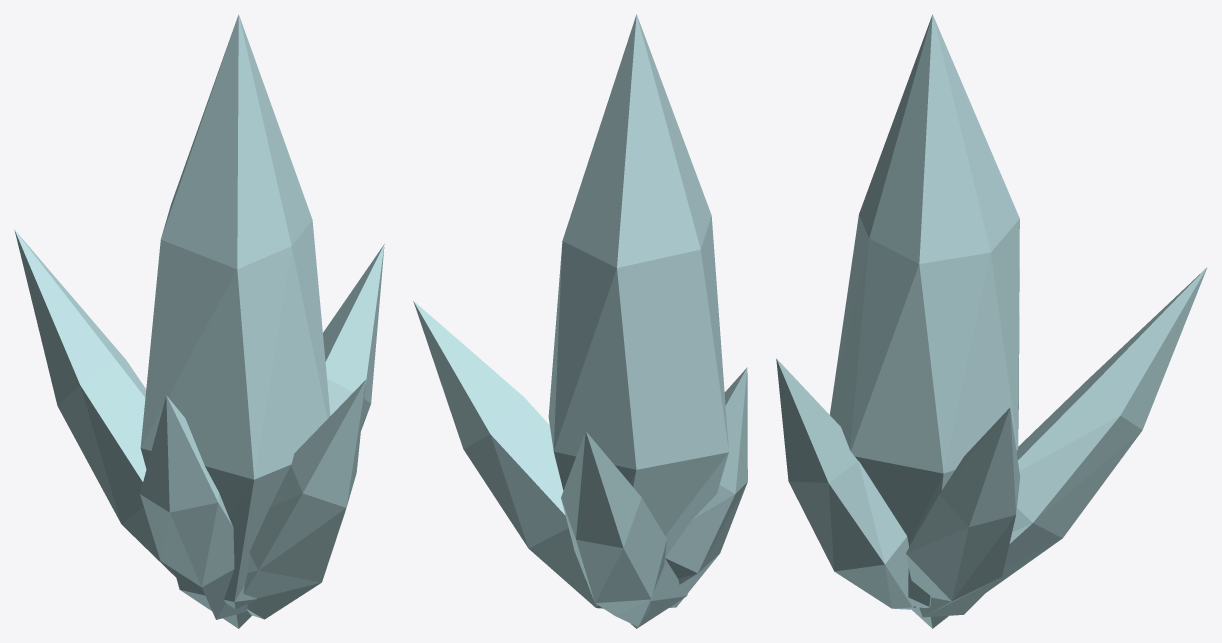
The model's file is lab_rift_core.glb.
The picture shows the model from 3 angles, left to right: view 1: azimuth 30°, elevation 25°; view 2: azimuth 150°, elevation 25°; view 3: azimuth 270°, elevation 25°; orthographic projection.
Parts seen in each view (by area): view 1: lab_rift_core; view 2: lab_rift_core; view 3: lab_rift_core.
Boxes of the visible parts, x1,y1,x2,y2 form: lab_rift_core: (14,14,384,628); lab_rift_core: (413,14,747,628); lab_rift_core: (776,14,1207,628).
Bounding box in the file's own units: 0.8201 × 1.7 × 1.08.
